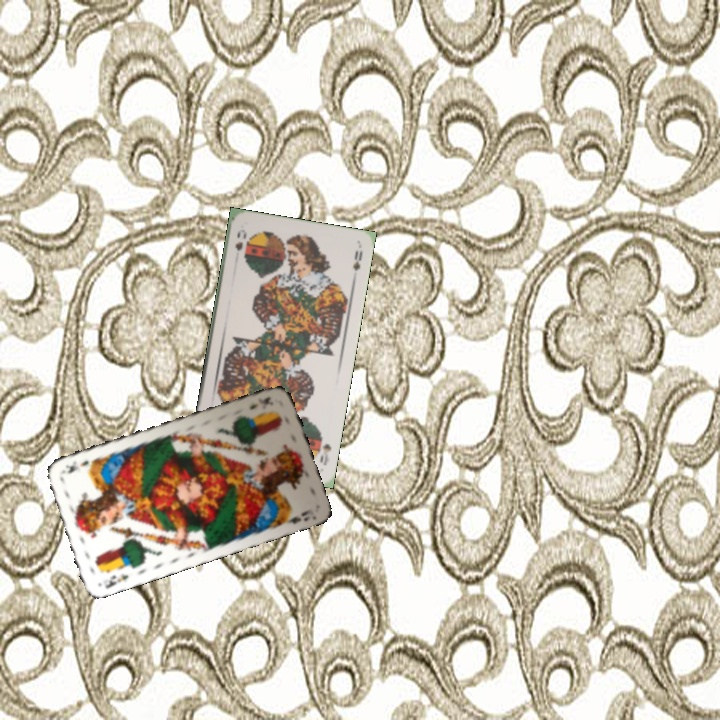EK: (101, 569, 131, 591), (245, 392, 276, 412)
SO: (315, 432, 334, 468), (231, 225, 249, 253)
